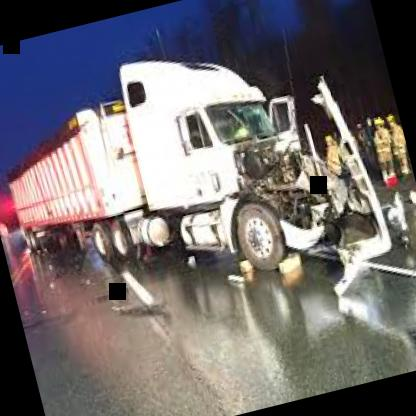accident: (31, 0, 416, 384)
